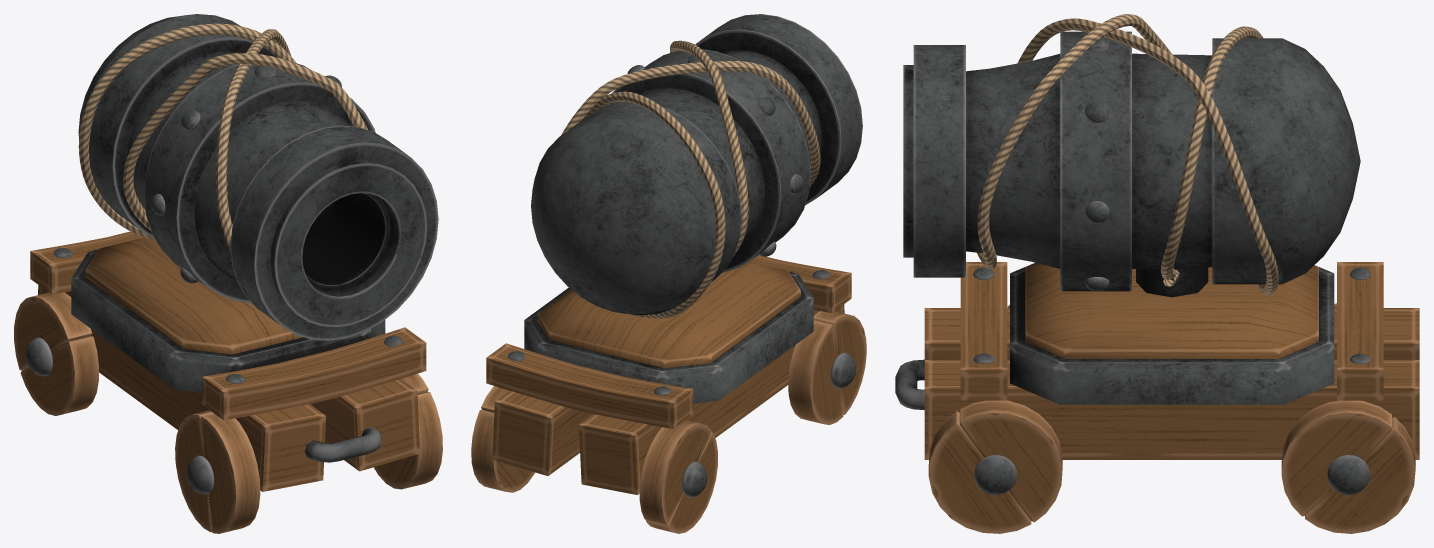
Rendered from hugecannon.fbx.
3 renders of one model, left to right at view 1: azimuth 30°, elevation 25°; view 2: azimuth 150°, elevation 25°; view 3: azimuth 270°, elevation 25°, orthographic. The views are drawn at different scales.
Visible parts, largest first — view 1: canhao.001_low, canhao.004_low, canhao.008_low.002, canhao.008_low.001, canhao.008_low.003; view 2: canhao.001_low, canhao.004_low, canhao.008_low.001, canhao.008_low.002, canhao.008_low; view 3: canhao.001_low, canhao.004_low, canhao.008_low, canhao.008_low.003.
Boxes of the visible parts, x1=… form: canhao.001_low: x1=78, y1=14, x2=438, y2=340; canhao.004_low: x1=30, y1=231, x2=426, y2=491; canhao.008_low.002: x1=175, y1=410, x2=260, y2=533; canhao.008_low.001: x1=14, y1=292, x2=98, y2=415; canhao.008_low.003: x1=374, y1=373, x2=442, y2=489; canhao.001_low: x1=531, y1=14, x2=862, y2=318; canhao.004_low: x1=486, y1=255, x2=851, y2=494; canhao.008_low.001: x1=639, y1=420, x2=717, y2=533; canhao.008_low.002: x1=788, y1=311, x2=866, y2=424; canhao.008_low: x1=471, y1=386, x2=534, y2=492; canhao.001_low: x1=903, y1=14, x2=1360, y2=295; canhao.004_low: x1=895, y1=262, x2=1419, y2=459; canhao.008_low: x1=1281, y1=400, x2=1415, y2=533; canhao.008_low.003: x1=928, y1=400, x2=1062, y2=533.
Bounding box in the file's own units: 236 × 394 × 412.
